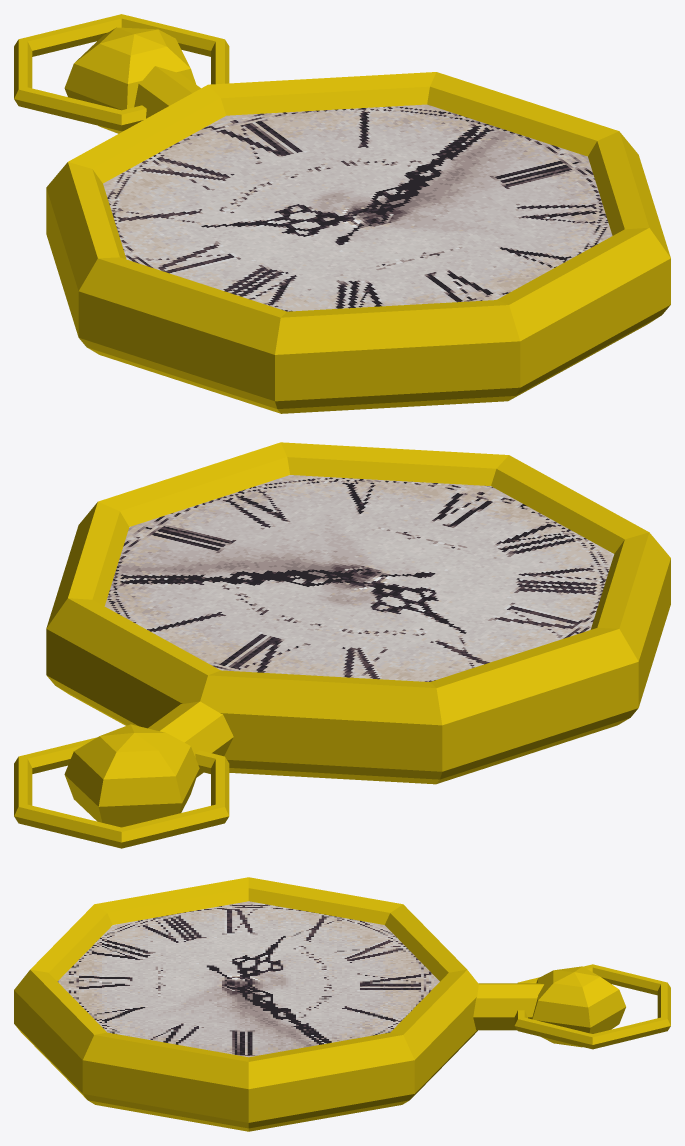
File: Relog de victor howard.fbx
3 views of the same model, one above another, from view 1: azimuth 30°, elevation 25°; view 2: azimuth 150°, elevation 25°; view 3: azimuth 270°, elevation 25° (orthographic). The views are drawn at different scales.
Visible parts, largest first — view 1: Cylinder, Torus, Sphere, Cylinder.001; view 2: Cylinder, Sphere, Torus, Cylinder.001; view 3: Cylinder, Sphere, Torus, Cylinder.001.
Boxes of the visible parts, box(x1,y1,x2,y2) form: Cylinder: box(46, 72, 670, 413); Torus: box(14, 14, 229, 131); Sphere: box(64, 27, 196, 133); Cylinder.001: box(134, 66, 200, 118); Cylinder: box(46, 442, 670, 784); Sphere: box(64, 724, 199, 827); Torus: box(14, 737, 229, 848); Cylinder.001: box(148, 701, 233, 777); Cylinder: box(14, 877, 478, 1131); Sphere: box(532, 966, 625, 1047); Torus: box(514, 964, 670, 1049); Cylinder.001: box(473, 983, 543, 1030).
Bounding box in the file's own units: 244 × 47.34 × 342.
